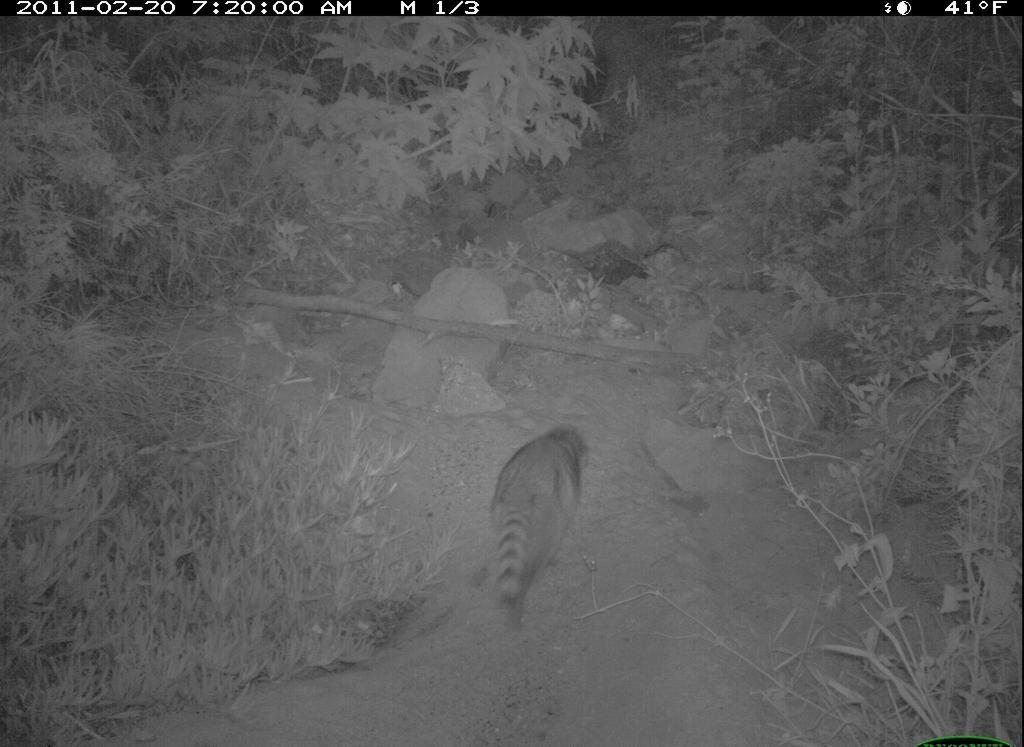raccoon: (488, 417, 601, 629)
